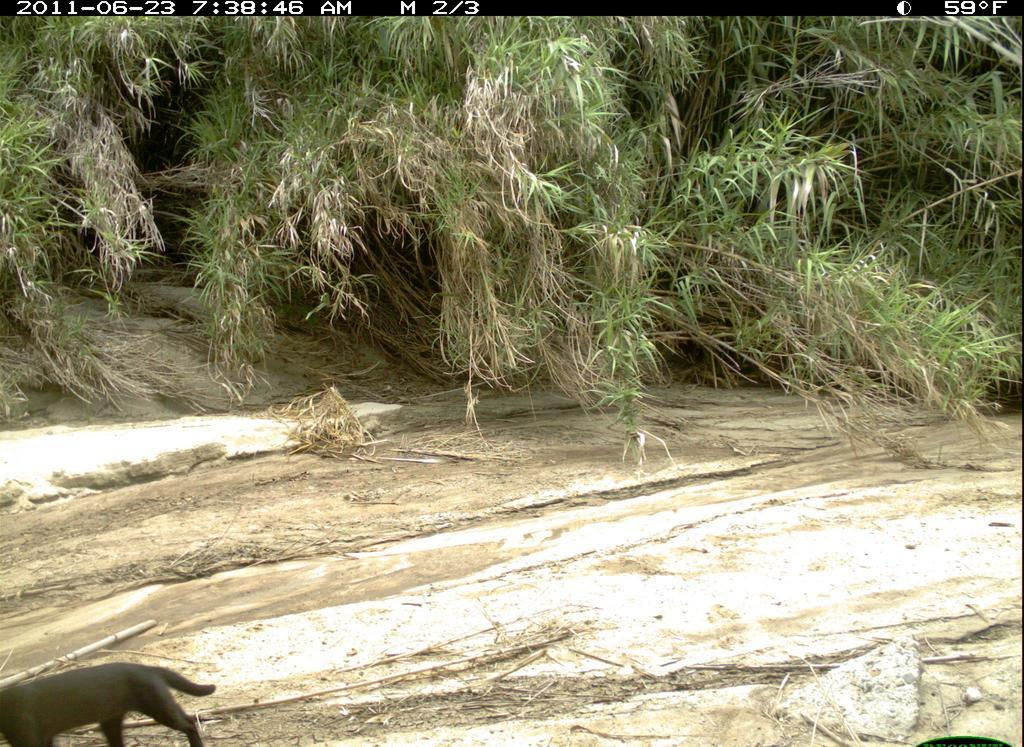cat: (1, 657, 221, 747)
